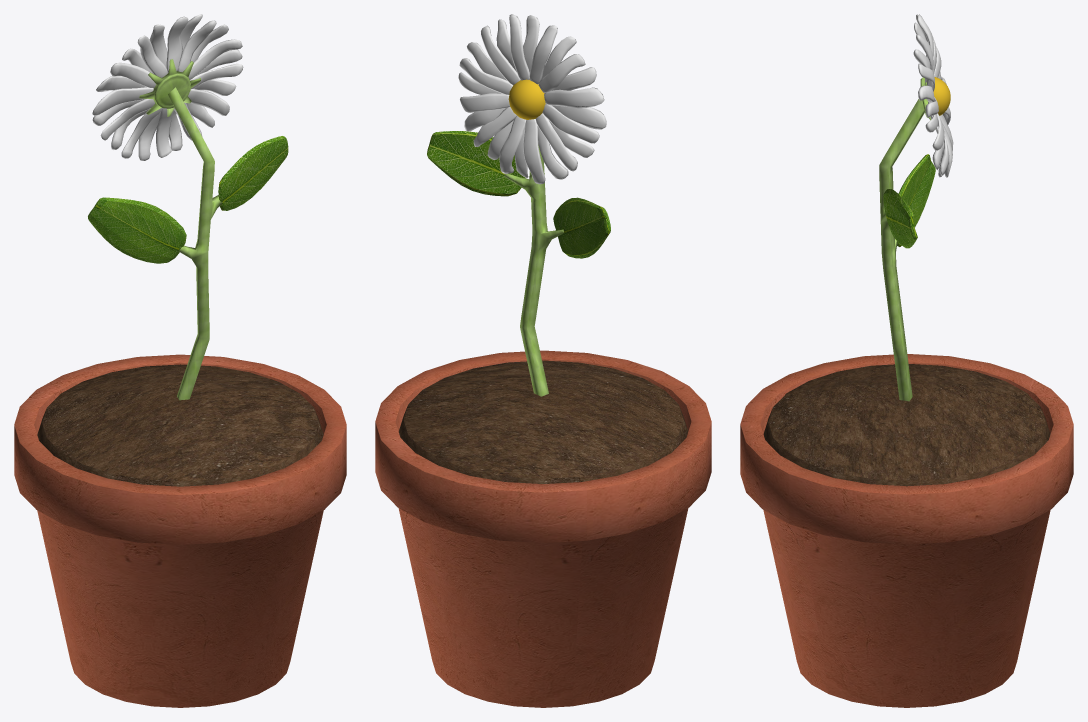
Rendered from plants.fbx.
3 views of the same model, side by side, from view 1: azimuth 30°, elevation 25°; view 2: azimuth 150°, elevation 25°; view 3: azimuth 270°, elevation 25° (orthographic).
Parts seen in each view (by area): view 1: Cylinder, Plane.001, Plane, Plane.002, Sphere, Cube.007, Cube.013, Cube.017, Cube.015, Cube.009, Cube.021, Cube.005 (+4 smaller); view 2: Cylinder, Plane, Plane.002, Plane.001, Sphere, Cube.008, Cube.002, Cube.006, Cube.012, Cube.014, Cube, Cube.004 (+12 smaller); view 3: Cylinder, Plane, Plane.001, Plane.002, Sphere.
Part boxes in pixels (x1,y1,x2,y2): Cylinder: [14, 354, 346, 707]; Plane.001: [88, 197, 186, 263]; Plane: [168, 87, 221, 400]; Plane.002: [218, 136, 288, 210]; Sphere: [139, 59, 200, 116]; Cube.007: [92, 87, 153, 115]; Cube.013: [166, 16, 188, 72]; Cube.017: [188, 39, 242, 79]; Cube.015: [177, 20, 216, 72]; Cube.009: [110, 62, 156, 88]; Cube.021: [188, 89, 229, 115]; Cube.005: [100, 99, 154, 140]; Cylinder: [375, 350, 711, 707]; Plane: [504, 145, 563, 396]; Plane.002: [427, 131, 525, 196]; Plane.001: [553, 197, 610, 258]; Sphere: [508, 79, 545, 119]; Cube.008: [544, 87, 604, 108]; Cube.002: [523, 119, 545, 184]; Cube.006: [542, 104, 599, 143]; Cube.012: [529, 25, 557, 84]; Cube.014: [509, 14, 529, 80]; Cube: [499, 115, 526, 173]; Cube.004: [536, 113, 577, 171]; Cylinder: [740, 354, 1073, 707]; Plane: [879, 99, 924, 401]; Plane.001: [897, 154, 935, 246]; Plane.002: [883, 189, 917, 248]; Sphere: [920, 77, 950, 129].
Bounding box in the file's own units: 125 × 264 × 125.
